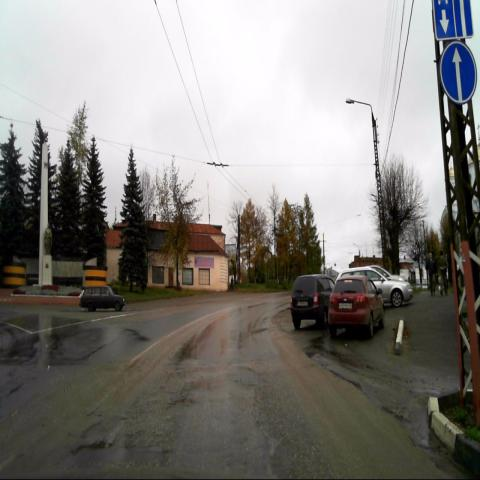4_1_1: (439, 41, 477, 104)
